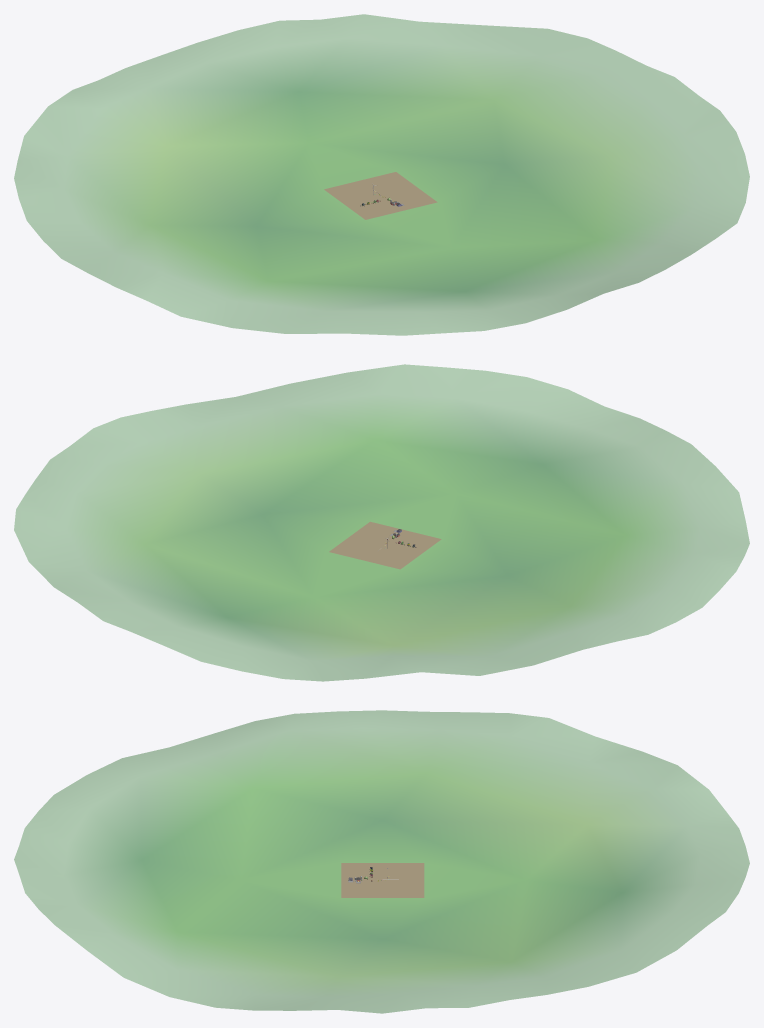
Rendered from harvest_models_fbx.glb.
3 renders of one model, top to bottom at view 1: azimuth 30°, elevation 25°; view 2: azimuth 150°, elevation 25°; view 3: azimuth 270°, elevation 25°, orthographic.
Visible parts, largest first — view 1: back_low, dirt; view 2: back_low, dirt; view 3: back_low, dirt.
Boxes of the visible parts, x1,y1,x2,y2 form: back_low: (14,14,749,335); dirt: (324,172,437,219); back_low: (14,364,749,681); dirt: (329,521,441,569); back_low: (14,710,749,1013); dirt: (341,863,424,897).
Bounding box in the file's own units: 1324 × 53.5 × 1329.
